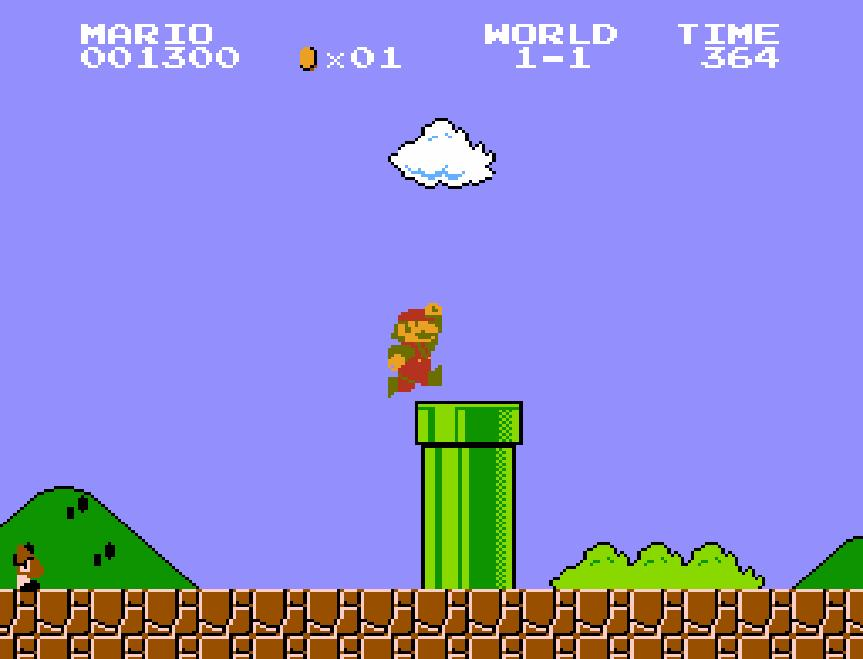big_mario: (386, 301, 444, 399)
